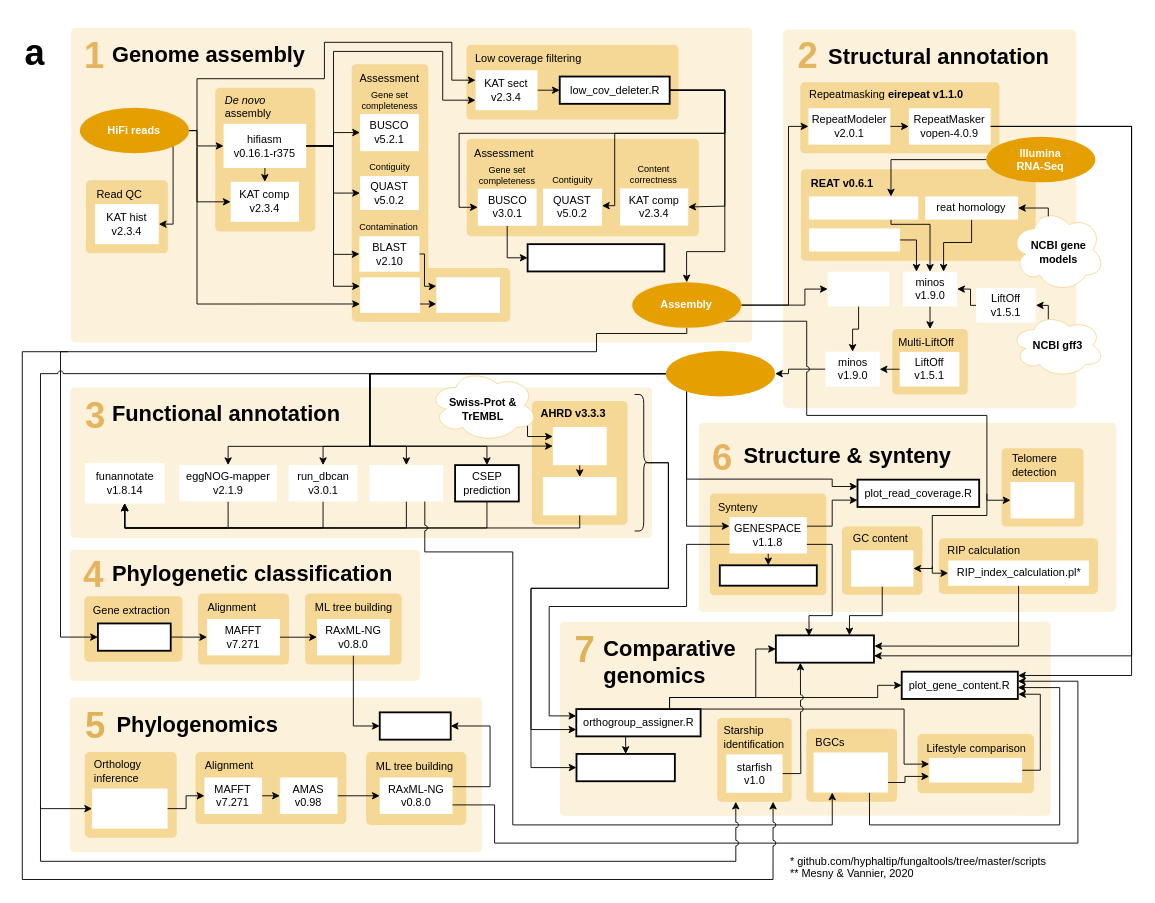
The diagram is 1155 pixels wide and 903 high, and some of its shapes have lost their labels. Each missing label, with the centre of its shape:
"antiSMASH v6.1.1" belongs at point 406,483.
"bedtools v2.29.2" belongs at point 882,568.
"BiG-SCAPE v1.1.5" belongs at point 850,772.
"blastp v2.6.0" belongs at point 579,446.
"BlobTools v1.0.1" belongs at point 468,294.
"Gene models" belongs at point 720,373.
"GenePull" belongs at point 134,636.
"go_enrichment.R" belongs at point 625,767.
"InterProScan v5.22.61" belongs at point 579,496.
"minimap2 v2.21" belongs at point 390,294.
"OrthoFinder v2.5.4" belongs at point 129,808.
"PERMANOVA**" belongs at point 975,769.
"plot_genespace.R" belongs at point 767,575.
"plot_ideograms.R" belongs at point 824,648.
"plot_missing_BUSCOs.R" belongs at point 595,257.
"plot_trees.R" belongs at point 414,725.
"reat prediction" belongs at point 854,239.
"reat transcriptome" belongs at point 863,207.
"RNAmmer v1.2" belongs at point 858,288.
"Tapestry v1.0.0" belongs at point 1042,500.
